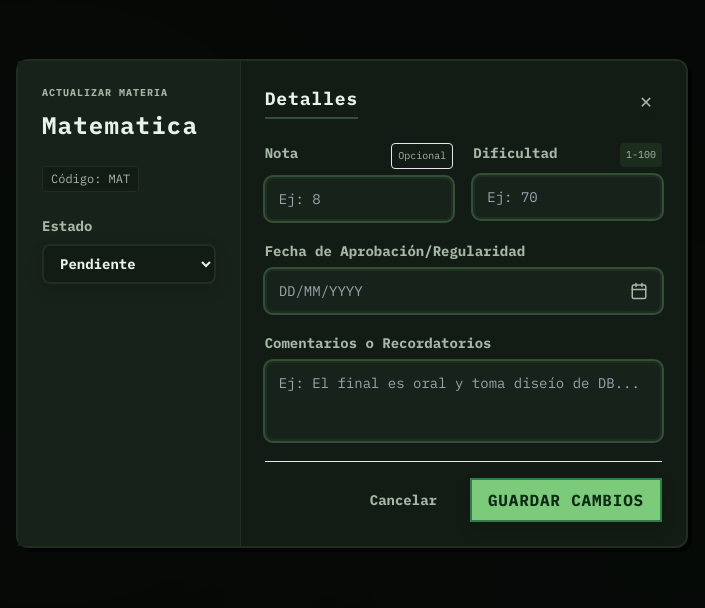
Scenario: SubjectUpdatePanel › debería arrojar error si se intenta guardar APROBADA sin nota
This screenshot has width=705, height=608.
// Cambiar a APROBADA
Select "Aprobada" in the dropdown: (129, 264) [42, 244, 216, 284]
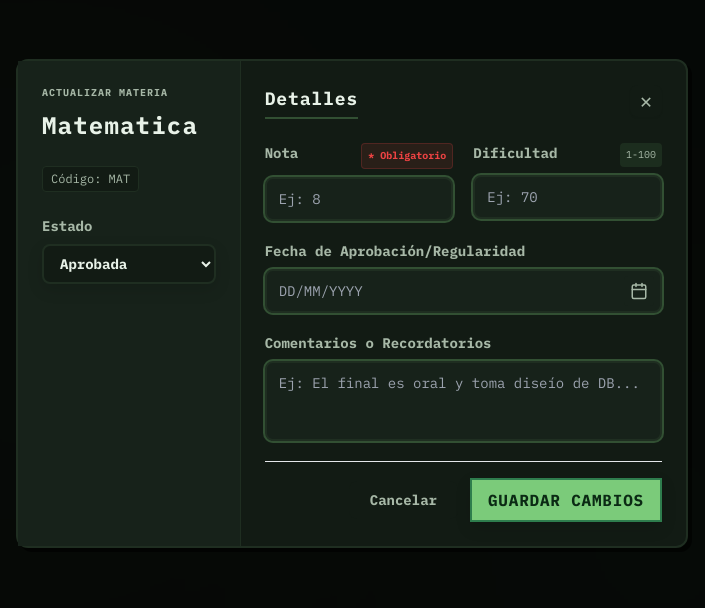
// Forzar guardado abrirá el prompt de "Forzar Cambio"
Click the button "Guardar Cambios": (566, 500) [470, 478, 662, 522]
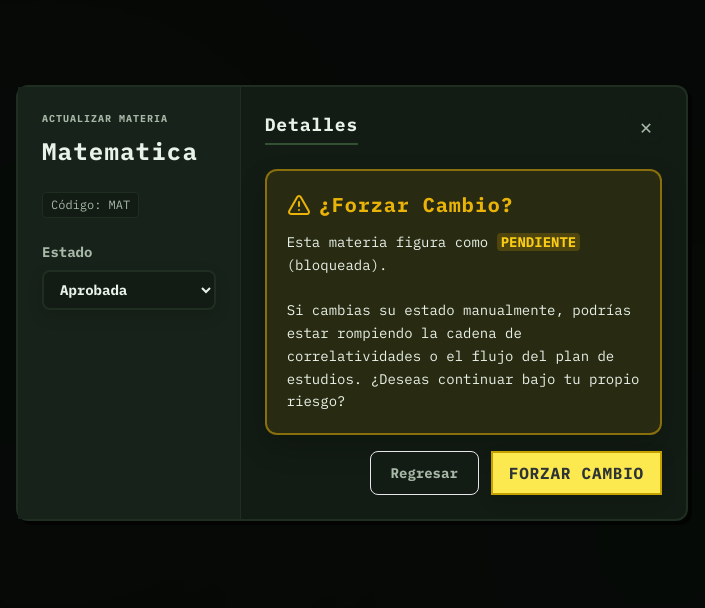
Click the button "Forzar cambio": (576, 473) [491, 451, 662, 495]
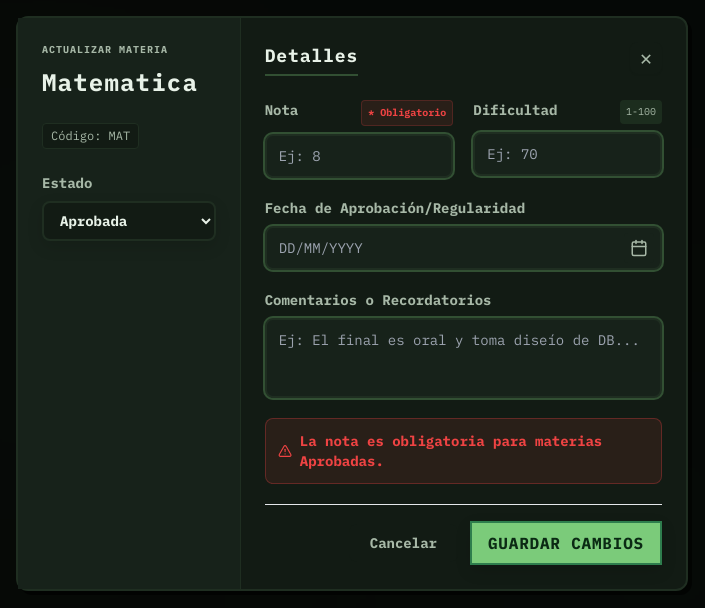
Expected: the text "La nota es obligatoria para materias Aprobadas." is shown, [278, 430, 649, 470]
